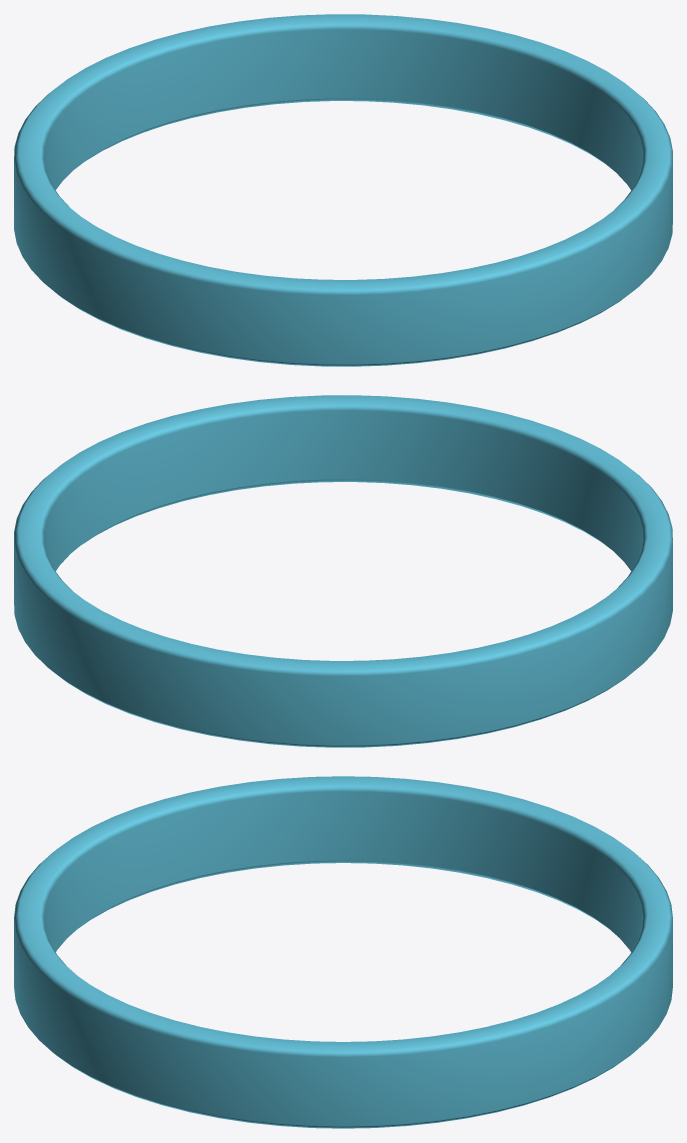
3 views of the same model, one above another, from view 1: azimuth 30°, elevation 25°; view 2: azimuth 150°, elevation 25°; view 3: azimuth 270°, elevation 25° (orthographic).
Visible parts, largest first — view 1: seal_body; view 2: seal_body; view 3: seal_body.
Boxes of the visible parts, box(x1,y1,x2,y2) form: seal_body: box(14, 14, 672, 366); seal_body: box(14, 395, 672, 747); seal_body: box(14, 776, 672, 1128).
Bounding box in the file's own units: 0.109 × 0.0143 × 0.109.
